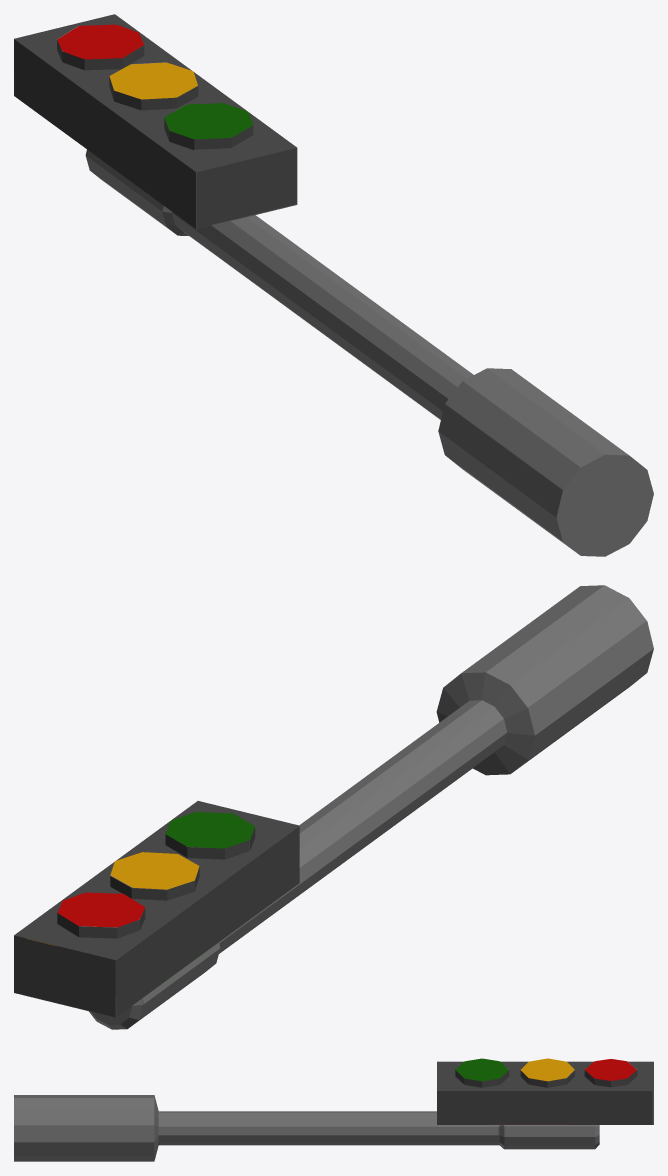
The model's file is sign-road-light.obj.
3 views of the same model, one above another, from view 1: azimuth 30°, elevation 25°; view 2: azimuth 150°, elevation 25°; view 3: azimuth 270°, elevation 25° (orthographic). The views are drawn at different scales.
Parts seen in each view (by area): view 1: sign-road-light_Plane.200; view 2: sign-road-light_Plane.200; view 3: sign-road-light_Plane.200.
Part boxes in pixels (<box>): sign-road-light_Plane.200: <box>14,14,653,556</box>; sign-road-light_Plane.200: <box>14,585,653,1029</box>; sign-road-light_Plane.200: <box>14,1058,653,1161</box>.
Bounding box in the file's own units: 0.7613 × 1.06 × 6.97.
